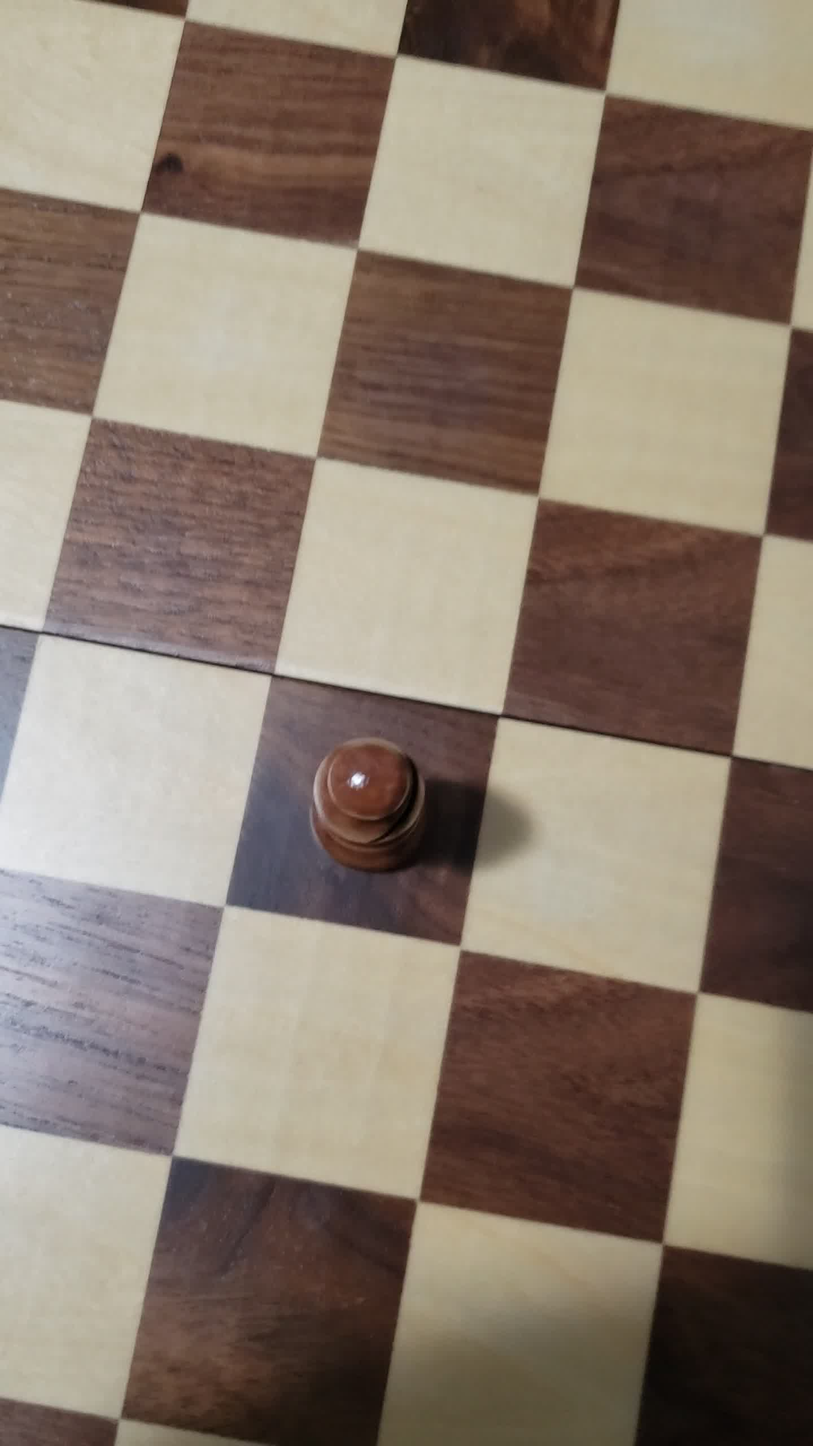black-bishop: (271, 712, 476, 904)
